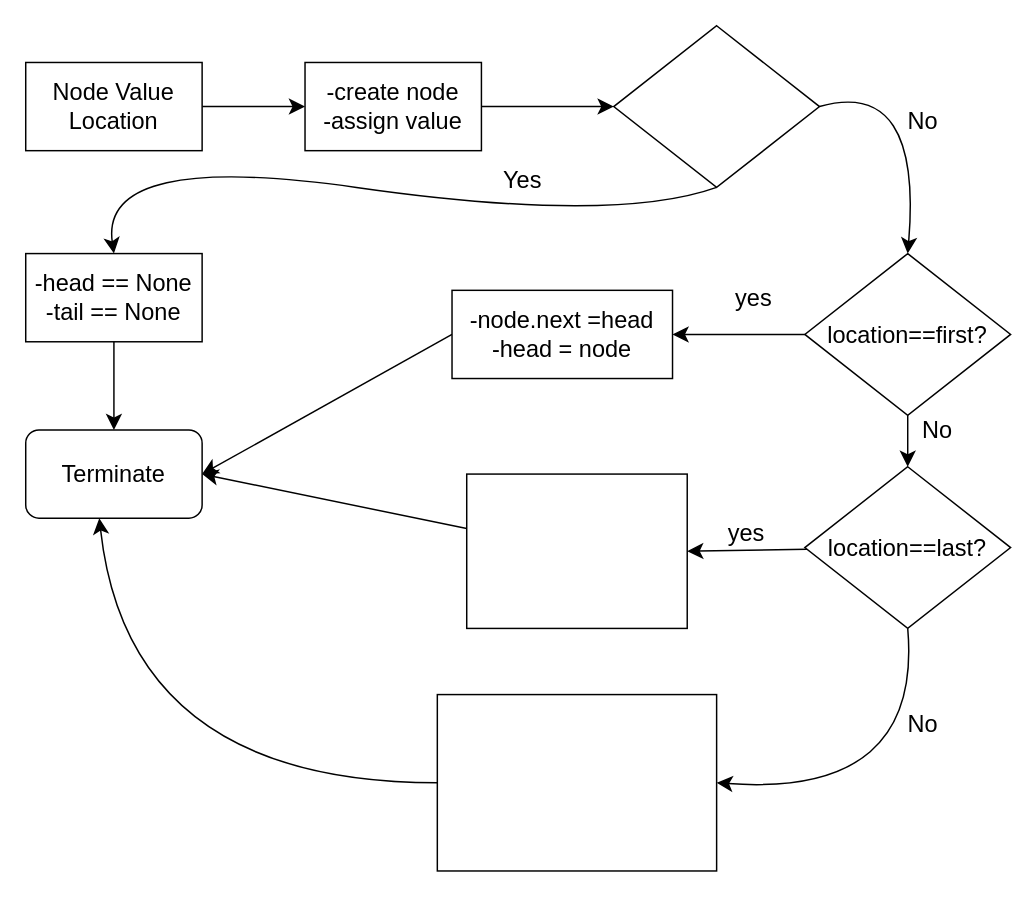
This 1036x897 diagram has some shape labels left out. Here are the shapes that lost their labels. From the top down, the centre of each, then its label:
(716,105): head == none?
(576,550): -node.next =None -last.next=None -tail = node
(576,782): -find location -current.next = node -node.next=nextNode
